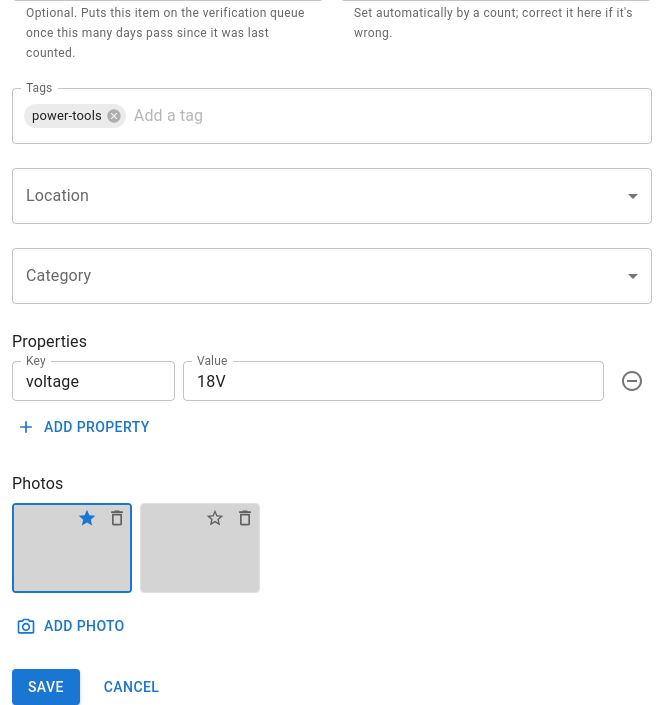
Scenario: EditItemPage › shows an error alert when setting a photo as primary fails
(page scrolled)
Click the button named "Set as primary photo": (215, 518) [200, 503, 230, 533]
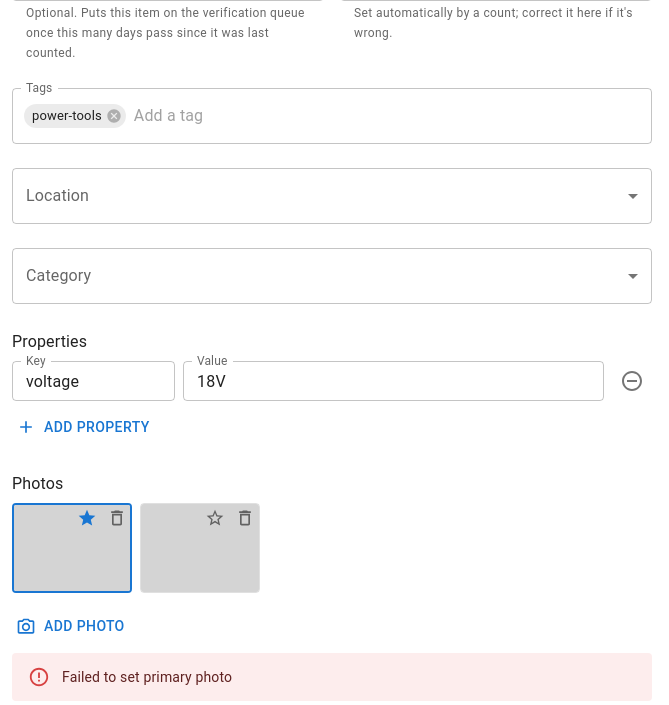
Now the text "Failed to set primary photo" is shown, box [62, 669, 232, 685]
